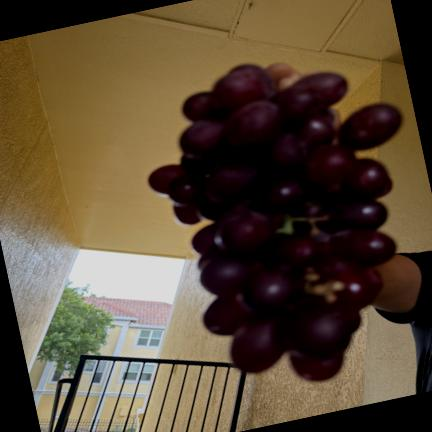grape_cluster: (149, 65, 402, 380)
